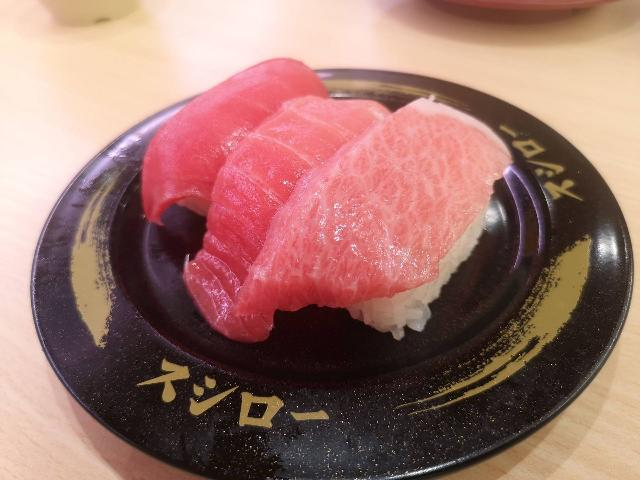janback: (25, 107, 624, 443)
